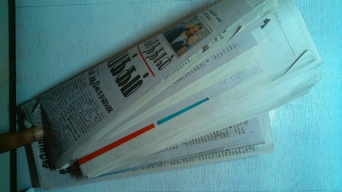p: (30, 3, 316, 177)
